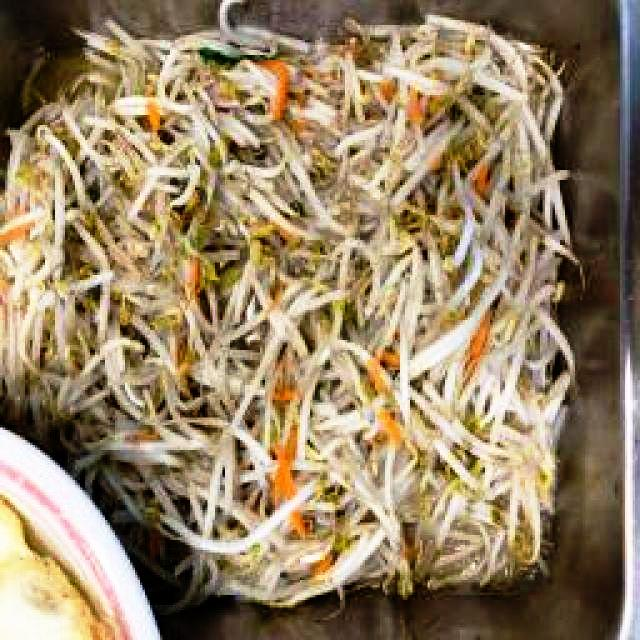mung_bean_sprouts: (8, 29, 569, 434), (162, 446, 557, 597), (90, 435, 165, 566)
